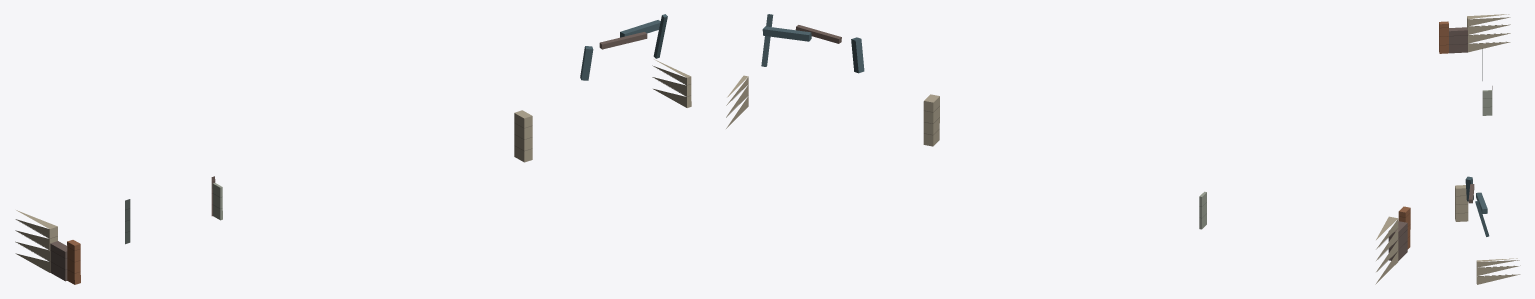
Rendered from terminal-29---120_-16.glb.
3 renders of one model, left to right at view 1: azimuth 30°, elevation 25°; view 2: azimuth 150°, elevation 25°; view 3: azimuth 270°, elevation 25°, orthographic. The views are drawn at different scales.
Parts seen in each view (by area): view 1: measured-industrial; view 2: measured-industrial; view 3: measured-industrial.
Boxes of the visible parts, left/top/right/bottom form: measured-industrial: left=15, top=14, right=691, bottom=284; measured-industrial: left=726, top=14, right=1410, bottom=284; measured-industrial: left=1439, top=14, right=1520, bottom=284.
Size of the model in its own units: 180 by 26.64 by 25.95.
